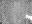person: (25, 13, 31, 20)
